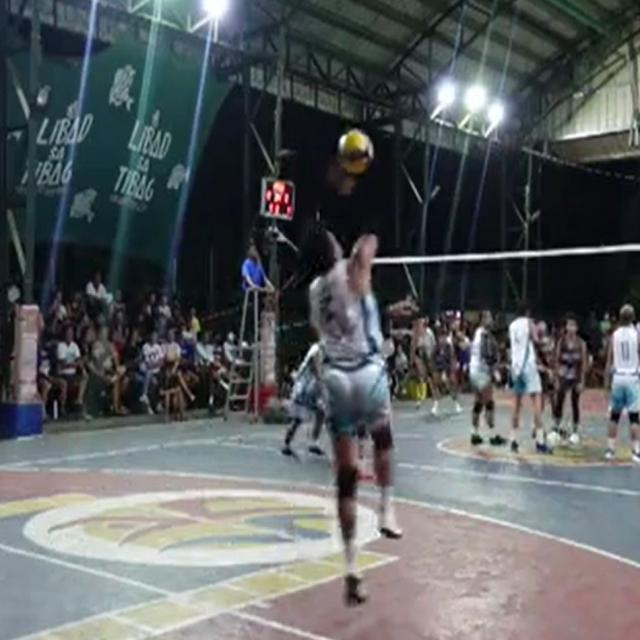volleyball: (335, 128, 373, 174)
